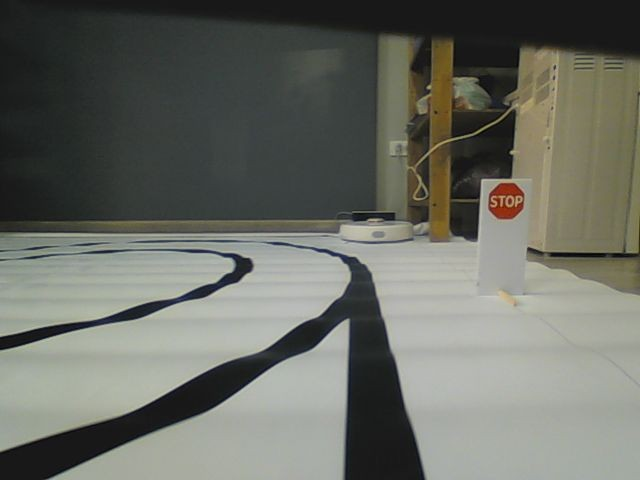Stop: (486, 181, 526, 221)
